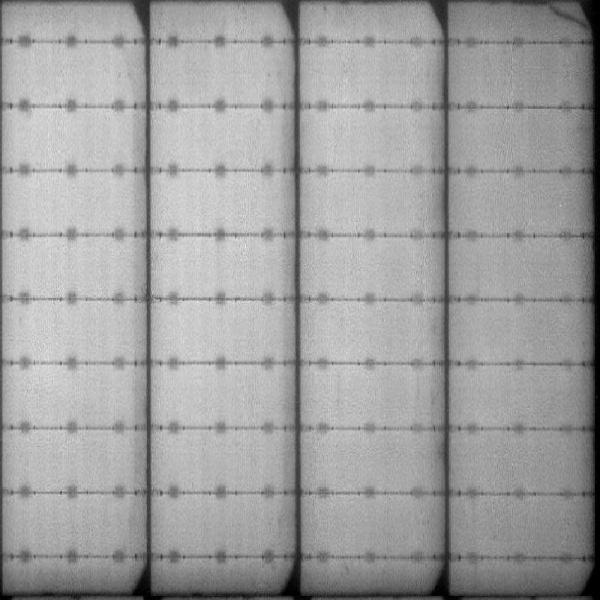scratch: (549, 4, 582, 42)
